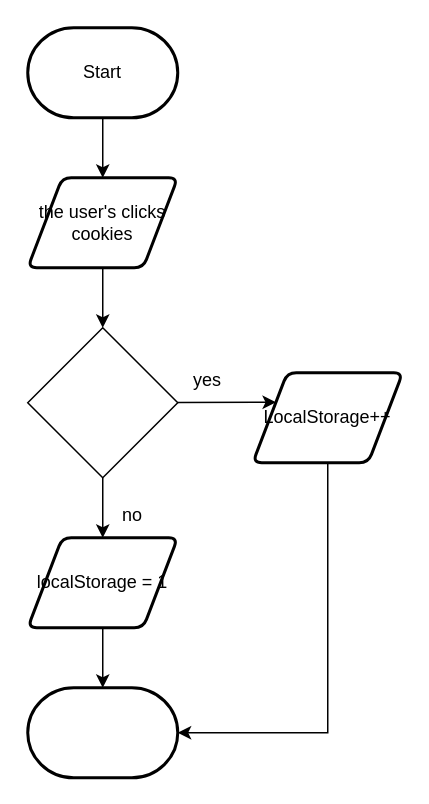
The diagram is 429 pixels wide and 804 high, and some of its shapes have lost their labels. Here are the shapes that lost their labels. From the top down, the box of each, then its label:
(26, 326, 178, 478): If (localStorage.hits)
(26, 686, 178, 778): Stop
